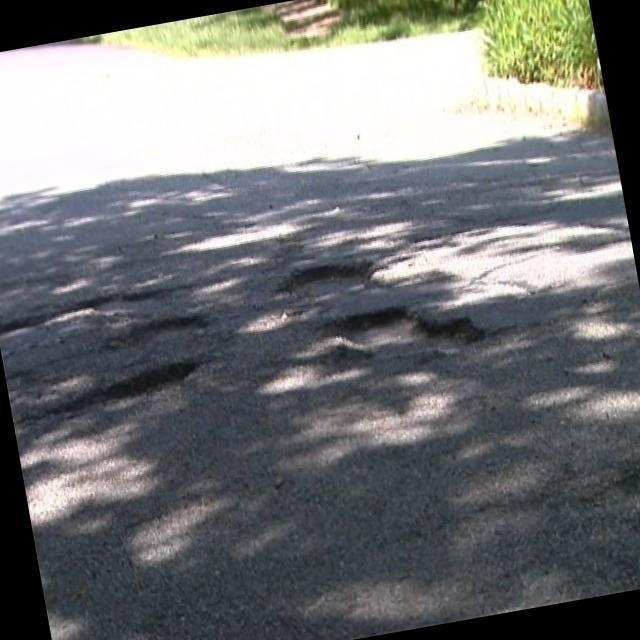pothole: (318, 318, 481, 360), (87, 361, 198, 416), (76, 291, 204, 338), (280, 260, 374, 308)
